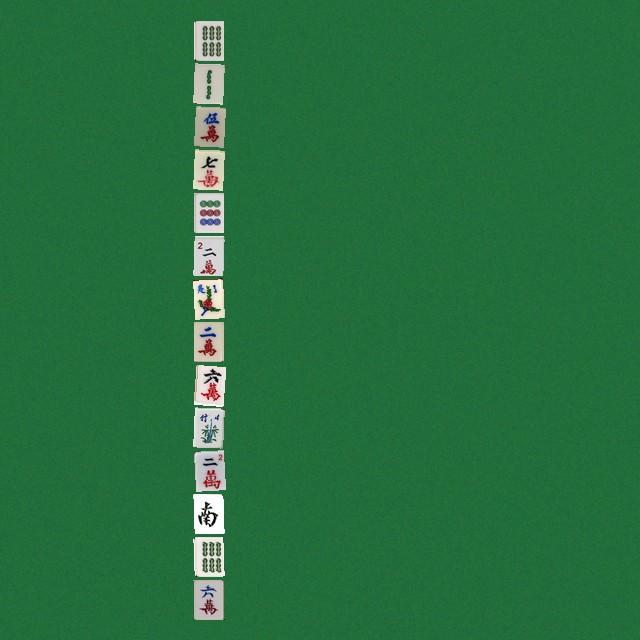tile: (193, 20, 223, 60), (193, 63, 223, 103), (193, 106, 223, 146), (193, 149, 223, 189), (193, 192, 223, 232), (193, 235, 223, 275), (193, 278, 223, 318), (193, 321, 223, 361), (193, 364, 223, 404), (193, 407, 223, 447), (193, 450, 223, 490), (193, 493, 223, 533), (193, 536, 223, 576), (193, 579, 223, 619)
